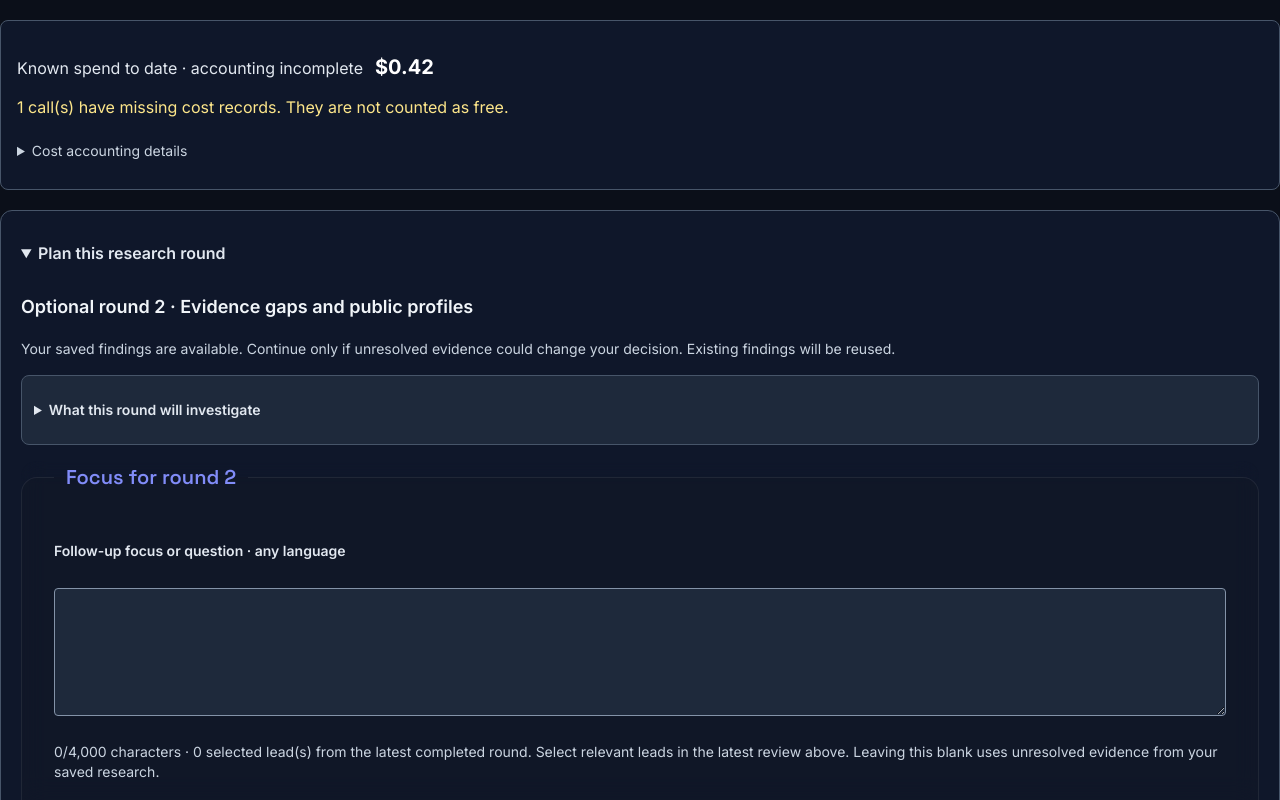
Test case: MB-UX-QUALITY-001 L11 explains round 2 methods before quotation without relabeling a historical approval
Click the heading "What this round will investigate" at (155, 410), box [49,401,260,418]
(page scrolled)
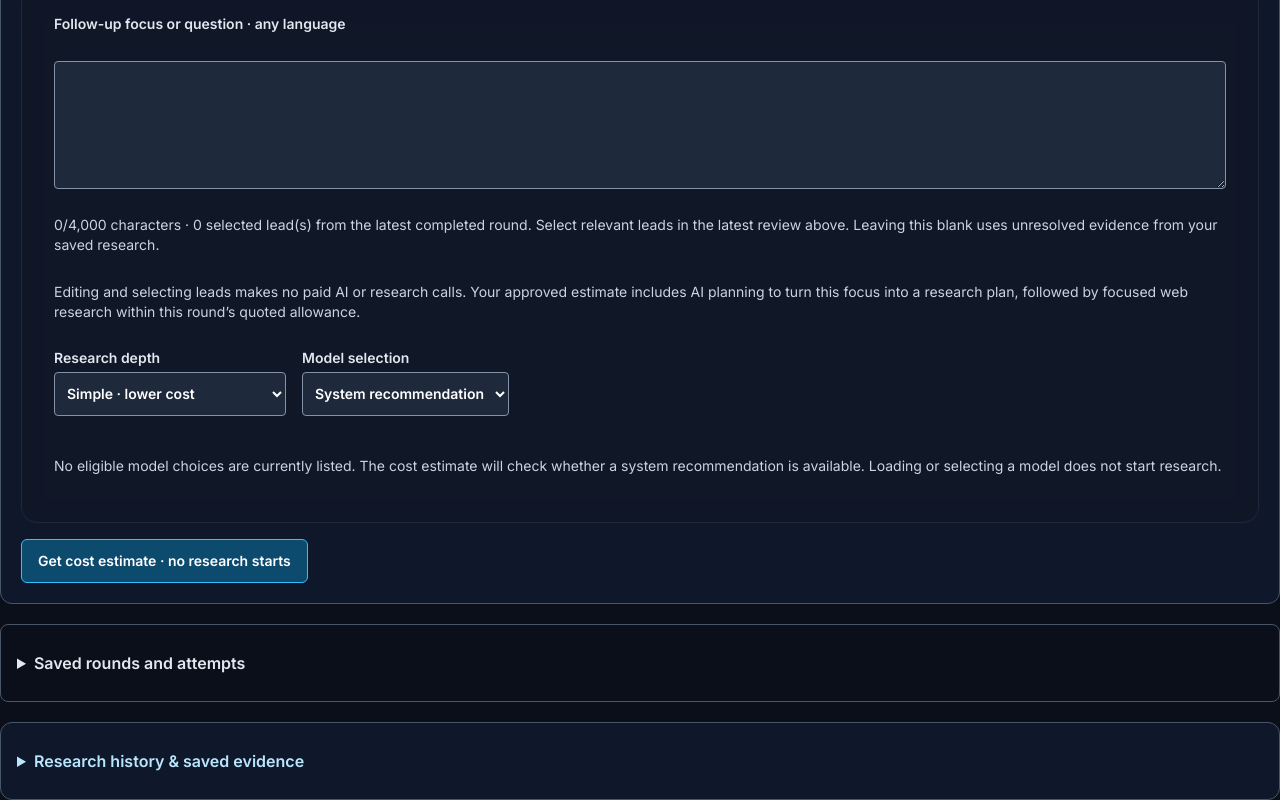
Click the heading "Saved rounds and attempts" at (140, 663), box [34,653,245,673]
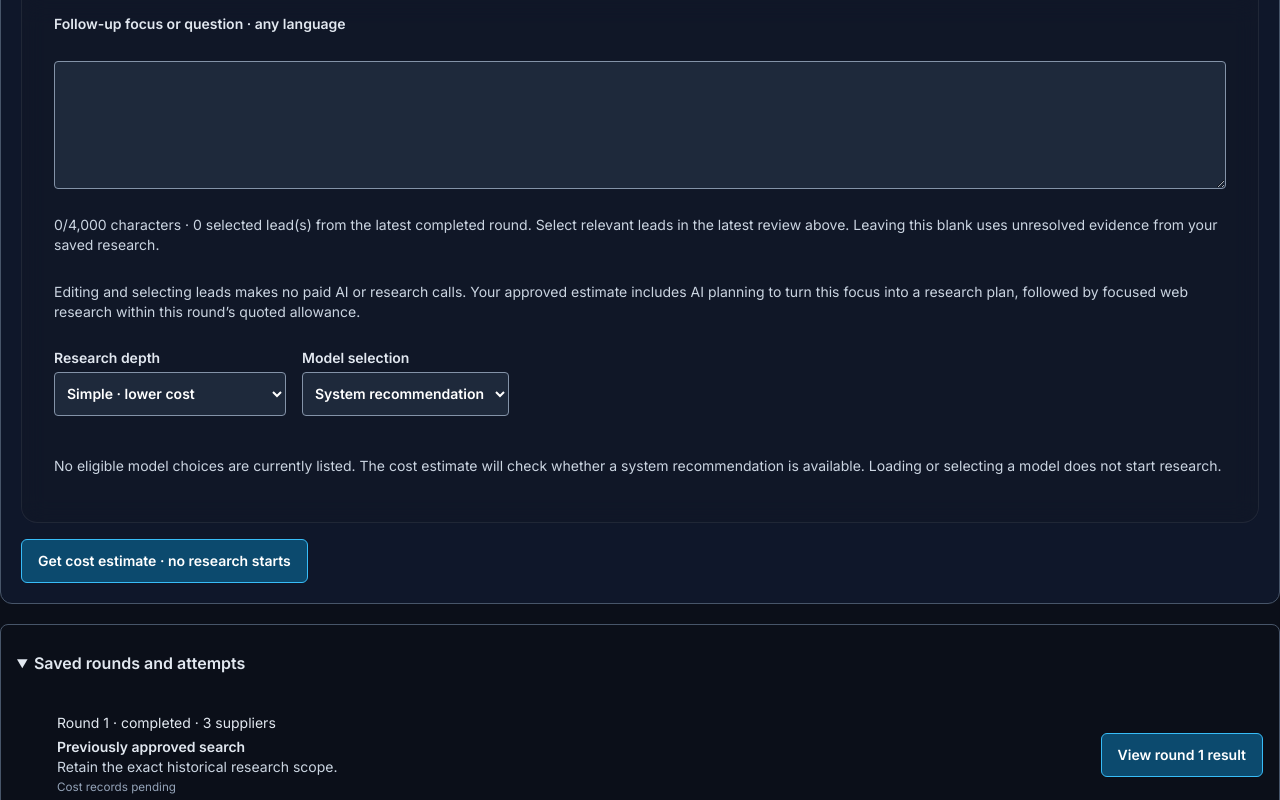
expect the text "Previously approved search" is shown: met, box [57,738,245,755]
expect the text "Retain the exact historical research scope." is shown: met, box [57,757,338,777]
